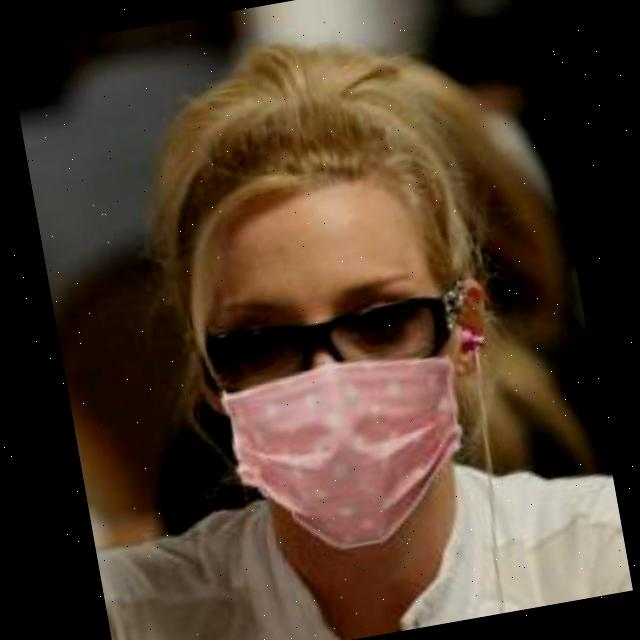suspicion: (134, 80, 522, 557)
